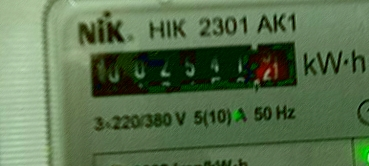0: (103, 58, 122, 85), (131, 54, 146, 81)
1: (230, 47, 245, 75)
2: (155, 52, 172, 78)
4: (206, 49, 221, 73)
5: (180, 50, 199, 79)
6: (258, 63, 274, 81)
screen: (76, 27, 312, 109)
